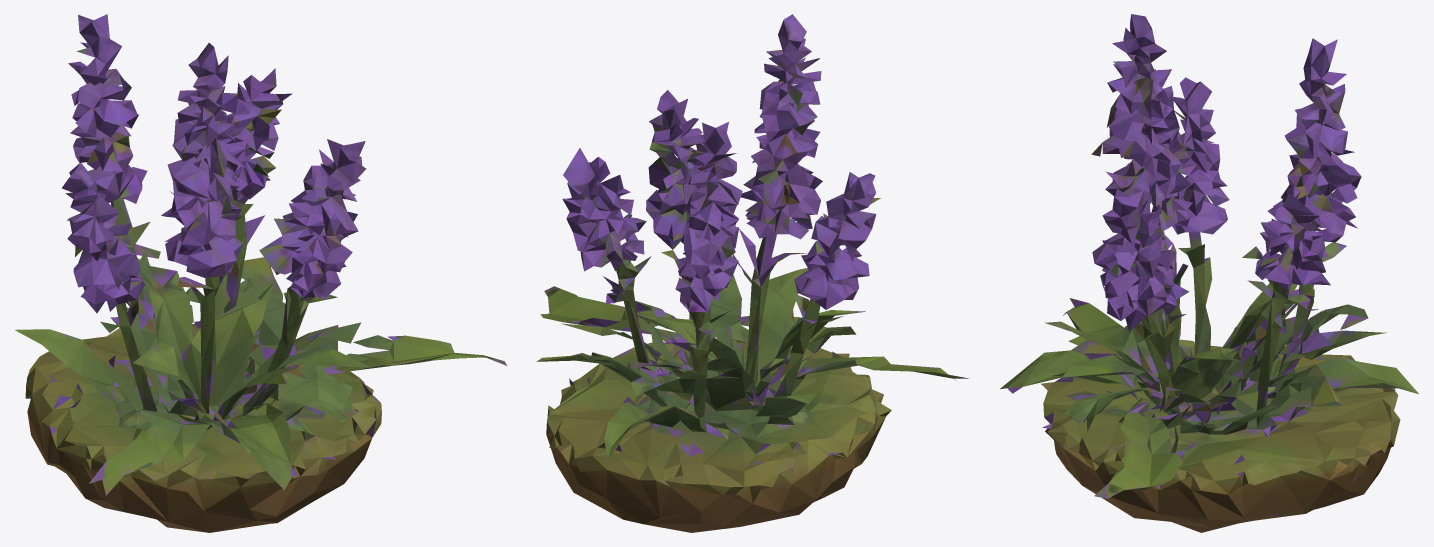
File: flower_b_purple.glb
The picture shows the model from 3 angles, left to right: view 1: azimuth 30°, elevation 25°; view 2: azimuth 150°, elevation 25°; view 3: azimuth 270°, elevation 25°; orthographic projection. The views are drawn at different scales.
Parts seen in each view (by area): view 1: geometry_0; view 2: geometry_0; view 3: geometry_0.
Boxes of the visible parts, x1=… form: geometry_0: x1=15, y1=14, x2=507, y2=532; geometry_0: x1=536, y1=14, x2=968, y2=532; geometry_0: x1=1000, y1=14, x2=1418, y2=532.
Size of the model in its own units: 0.8 by 0.8593 by 0.7005.
1 material, 1 textured.
